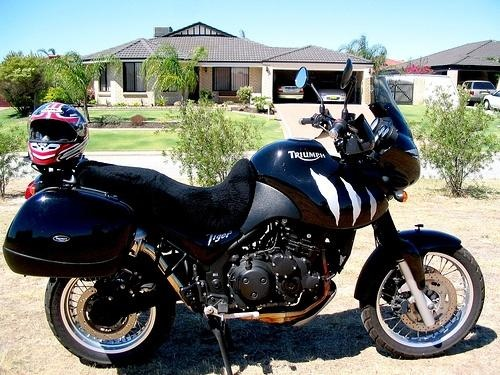car: (463, 79, 497, 103), (277, 82, 305, 103), (319, 89, 348, 104), (484, 90, 500, 113)
motorbike: (5, 57, 487, 370)
